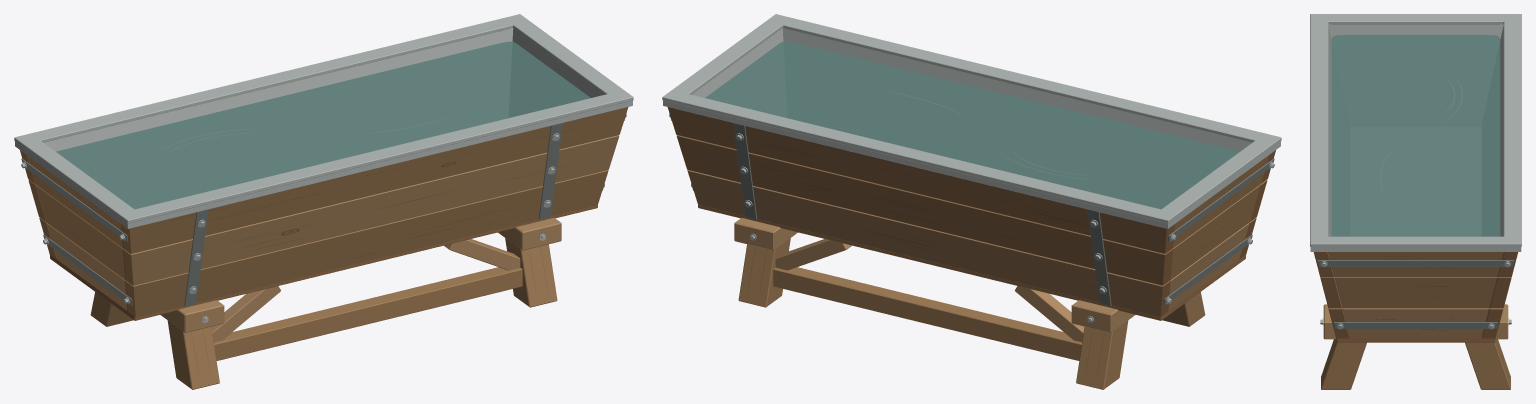
3 views of the same model, side by side, from view 1: azimuth 30°, elevation 25°; view 2: azimuth 150°, elevation 25°; view 3: azimuth 270°, elevation 25° (orthographic). The views are drawn at different scales.
Parts seen in each view (by area): view 1: Separate contained water surface, Broad folded galvanized top coping, Front side plank 2, Front side plank 1, Front side plank 3, Lower longitudinal stretcher -1, Watertight hollow galvanized basin liner, Downturned outer edge of coping, Fitted end plank -1 1, Splayed flat-foot leg -1 -1, Thick timber basin sole, Splayed flat-foot leg 1 -1 (+12 smaller); view 2: Separate contained water surface, Broad folded galvanized top coping, Back side plank 2, Back side plank 1, Back side plank 3, Lower longitudinal stretcher 1, Watertight hollow galvanized basin liner, Downturned outer edge of coping, Fitted end plank -1 1, Splayed flat-foot leg -1 1, Thick timber basin sole, Splayed flat-foot leg 1 1 (+12 smaller); view 3: Separate contained water surface, Broad folded galvanized top coping, Fitted end plank 1 1, Watertight hollow galvanized basin liner, Fitted end plank 1 0, Fitted end plank 1 2, Splayed flat-foot leg 1 1, Splayed flat-foot leg 1 -1, End-board tie strap 1 0.572, End-board tie strap 1 0.324, Downturned outer edge of coping, Thick timber basin sole (+7 smaller).
Part boxes in pixels (x1,y1,x2,y2): Separate contained water surface: (56,41,590,209); Broad folded galvanized top coping: (14,14,633,223); Front side plank 2: (123,135,619,285); Front side plank 1: (125,170,608,317); Front side plank 3: (121,107,628,253); Lower longitudinal stretcher -1: (214,267,522,360); Watertight hollow galvanized basin liner: (44,29,603,151); Downturned outer edge of coping: (15,100,632,228); Fitted end plank -1 1: (36,185,125,279); Splayed flat-foot leg -1 -1: (167,320,219,389); Thick timber basin sole: (50,204,597,320); Splayed flat-foot leg 1 -1: (505,238,557,307); Separate contained water surface: (705,41,1239,209); Broad folded galvanized top coping: (662,14,1281,223); Back side plank 2: (676,135,1172,285); Back side plank 1: (687,170,1170,317); Back side plank 3: (667,107,1174,253); Lower longitudinal stretcher 1: (773,267,1081,360); Watertight hollow galvanized basin liner: (692,29,1251,151); Downturned outer edge of coping: (663,100,1280,228); Fitted end plank -1 1: (1170,185,1259,279); Splayed flat-foot leg -1 1: (1076,320,1128,389); Thick timber basin sole: (698,204,1245,320); Splayed flat-foot leg 1 1: (738,238,790,307); Separate contained water surface: (1331,35,1500,236); Broad folded galvanized top coping: (1310,14,1521,246); Fitted end plank 1 1: (1334,277,1497,308); Watertight hollow galvanized basin liner: (1328,24,1503,236); Fitted end plank 1 0: (1342,308,1489,338); Fitted end plank 1 2: (1328,252,1503,277); Splayed flat-foot leg 1 1: (1465,339,1510,389); Splayed flat-foot leg 1 -1: (1321,339,1366,389); End-board tie strap 1 0.572: (1317,260,1514,266); End-board tie strap 1 0.324: (1334,322,1497,328); Downturned outer edge of coping: (1310,247,1521,251); Thick timber basin sole: (1336,336,1495,342).
Bounding box in the file's own units: 1.8 × 0.65 × 0.7.
